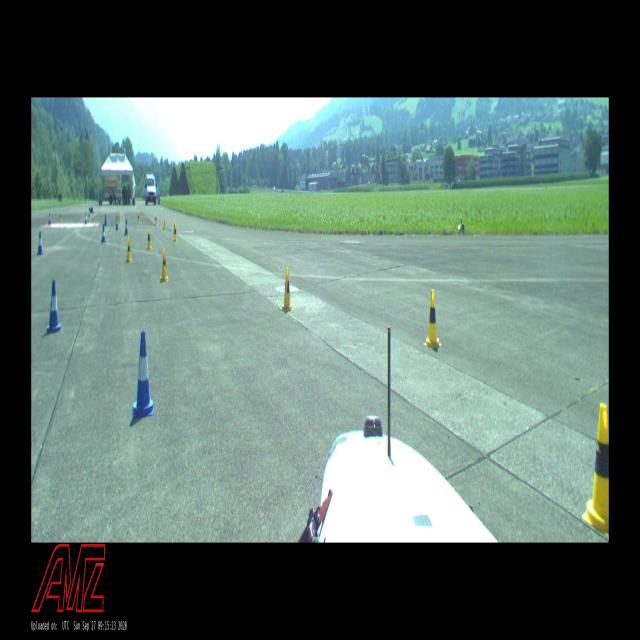blue_cone: (133, 329, 154, 416), (47, 280, 61, 334), (37, 232, 43, 254), (115, 216, 119, 230), (102, 225, 105, 242), (125, 219, 128, 235), (48, 214, 51, 224), (85, 213, 87, 223)
yellow_cone: (582, 404, 609, 537), (424, 289, 442, 348), (282, 268, 294, 312), (160, 248, 168, 282), (126, 236, 132, 262), (147, 229, 151, 249), (174, 224, 178, 242), (173, 219, 176, 235), (163, 217, 166, 230), (59, 211, 62, 222), (155, 213, 157, 226), (138, 212, 140, 223), (119, 212, 121, 222), (88, 212, 90, 221)
